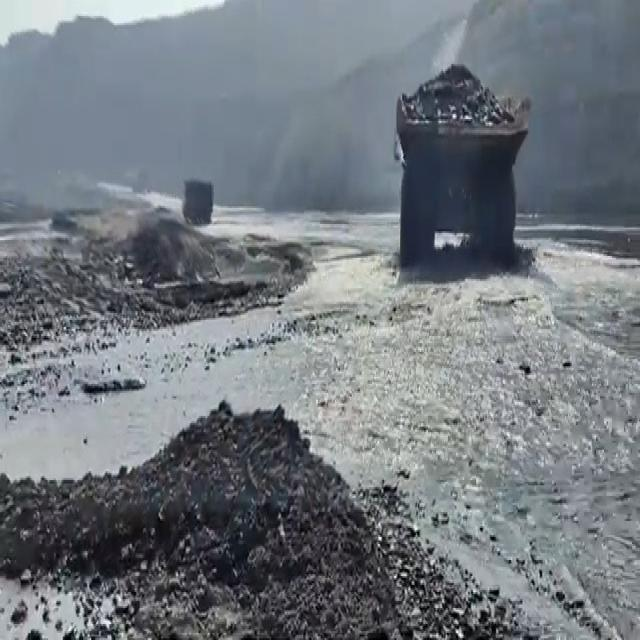dump_truck: (392, 67, 532, 261)
